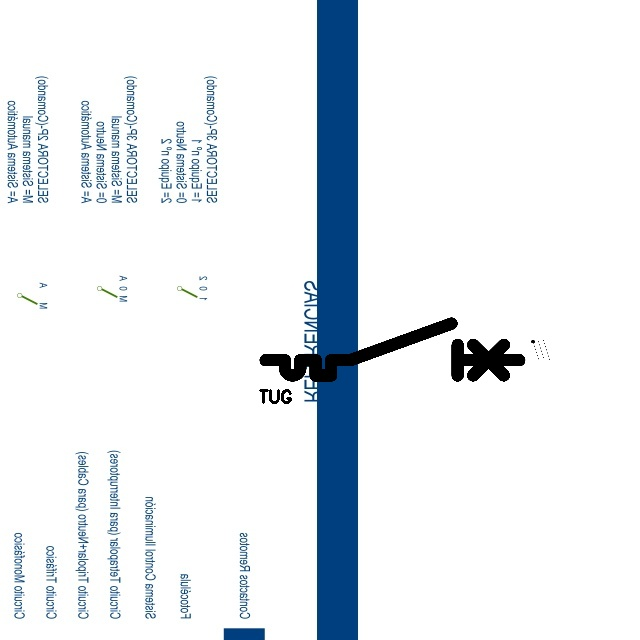interruptor_termomagnetico: (259, 317, 526, 382)
